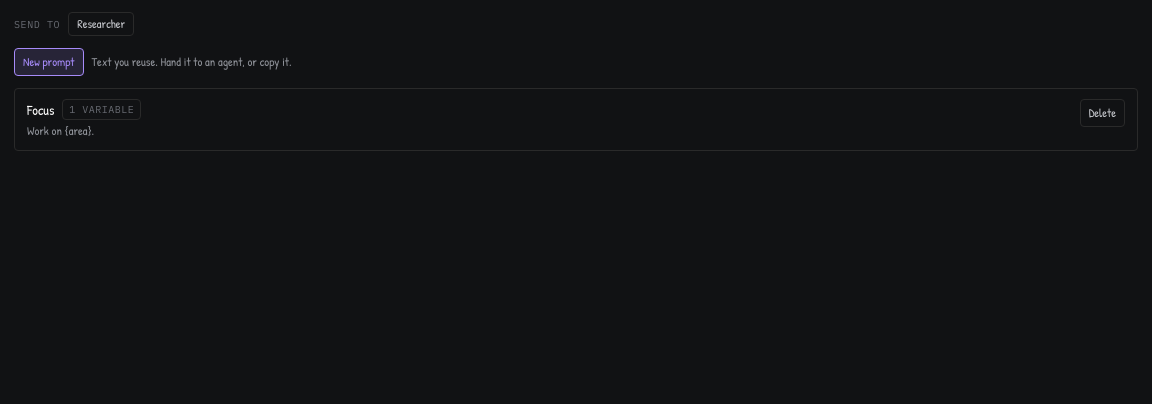
Test: TOOL-005: a prompt renders through the server › a missing value reports the server's own error rather than a prompt with a hole
The image size is (1152, 404).
Expected: the element with test id "tools-panel-body" is shown, [0,0,1151,163]
Click the text "Focus": (41, 110) [27,99,54,120]
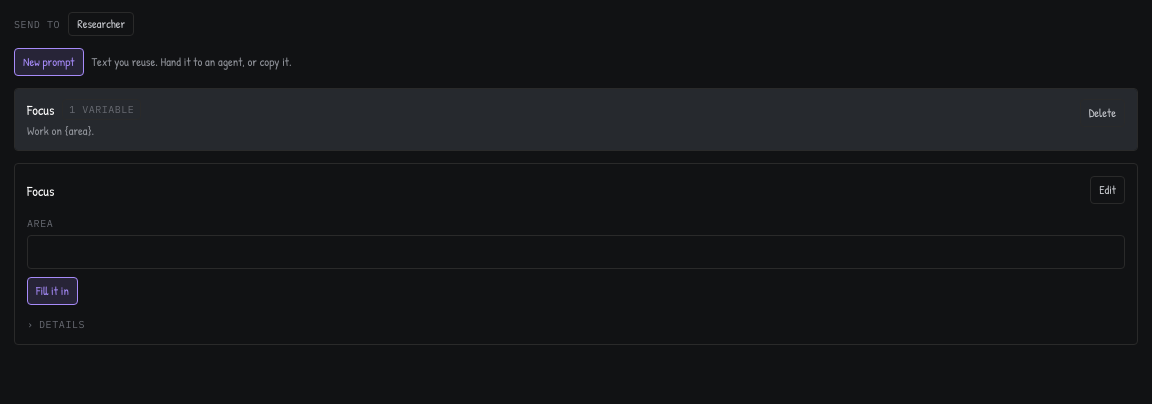
Click the button with test id "fill-prompt": (52, 290) [27,276,78,304]
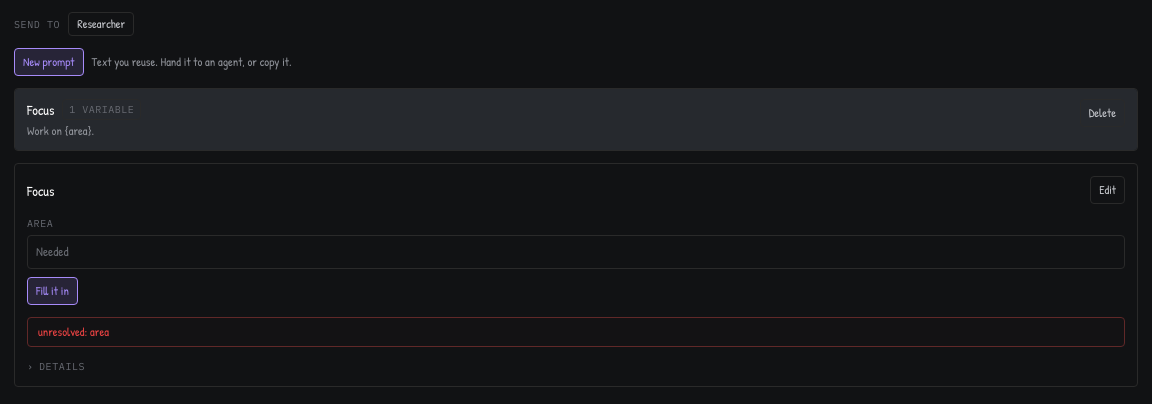
Result: the message "unresolved: area" is shown at [27,316,1125,347]
